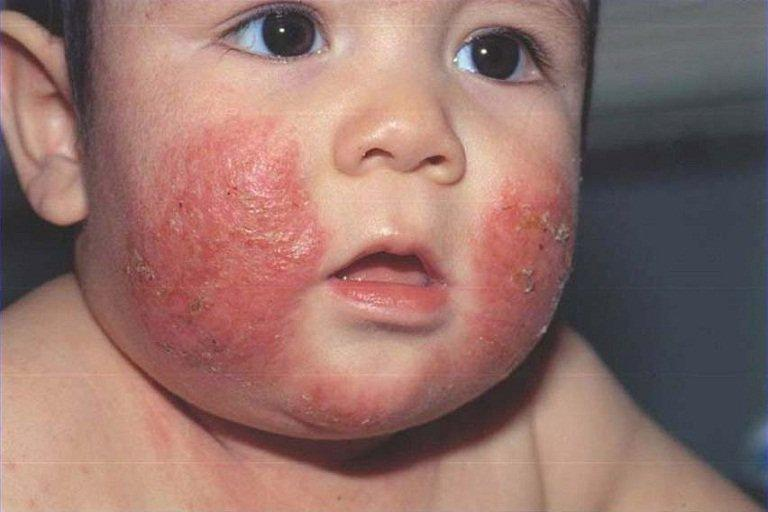Skin-Redness: (120, 109, 329, 386), (462, 167, 580, 383), (300, 384, 385, 434)
